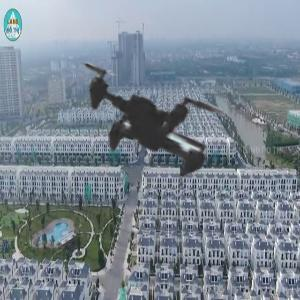drone: (11, 1, 282, 272)
